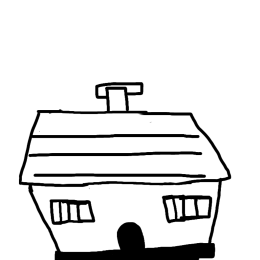bottom_placed_house: (3, 1, 260, 260)
chimney: (83, 73, 150, 120)
closed_window: (158, 187, 216, 223), (47, 189, 96, 224)
door: (112, 212, 152, 260)
roof: (12, 106, 244, 191)
wall: (20, 156, 231, 260)
